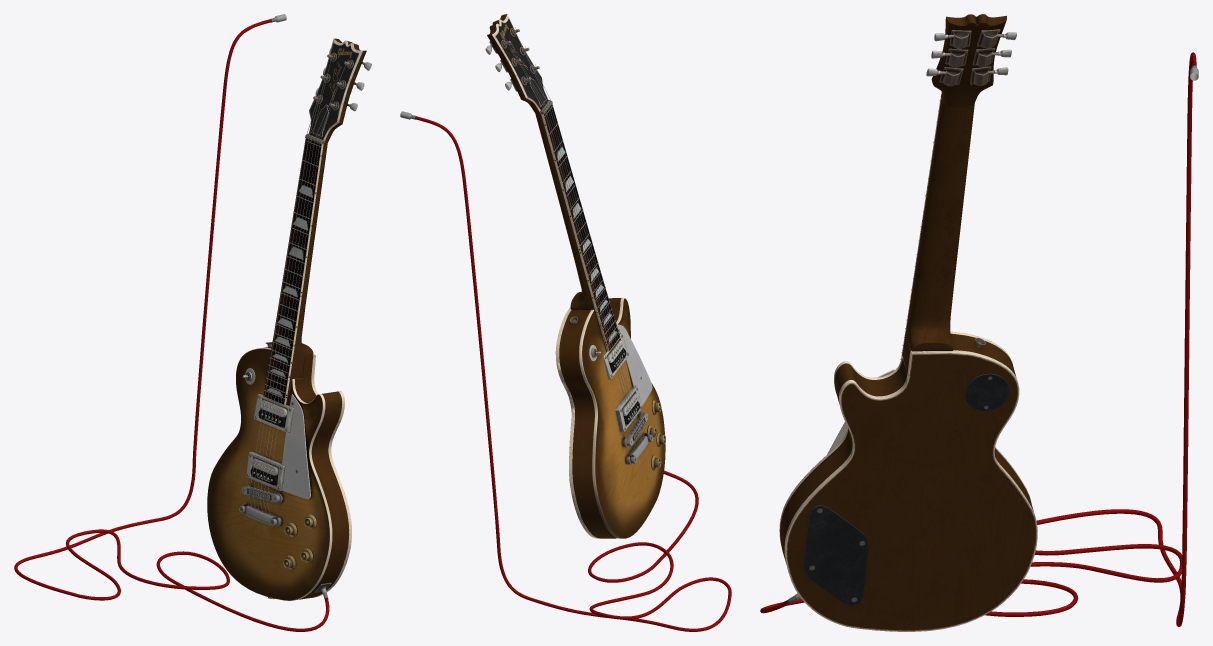
Rendered from gibson_guitar_moderate_meshopt.glb.
The picture shows the model from 3 angles, left to right: view 1: azimuth 30°, elevation 25°; view 2: azimuth 150°, elevation 25°; view 3: azimuth 270°, elevation 25°; orthographic projection. The views are drawn at different scales.
Parts seen in each view (by area): view 1: Les_Paul_Body.001, Les_Paul_BodyCover.001, BezierCurve.001; view 2: Les_Paul_Body.001, Les_Paul_BodyCover.001, BezierCurve.001; view 3: Les_Paul_Body.001, BezierCurve.001, Les_Paul_BodyCover.001.
Boxes of the visible parts, box(x1,y1,x2,y2) form: Les_Paul_Body.001: box(239, 38, 371, 599); Les_Paul_BodyCover.001: box(207, 348, 332, 600); BezierCurve.001: box(14, 14, 329, 631); Les_Paul_Body.001: box(485, 14, 665, 538); Les_Paul_BodyCover.001: box(579, 298, 665, 538); BezierCurve.001: box(400, 111, 731, 631); Les_Paul_Body.001: box(780, 14, 1037, 631); BezierCurve.001: box(760, 52, 1198, 626); Les_Paul_BodyCover.001: box(779, 331, 1030, 555).
Size of the model in its own units: 0.5963 by 0.9895 by 0.5758.
8 materials, 7 textured.
